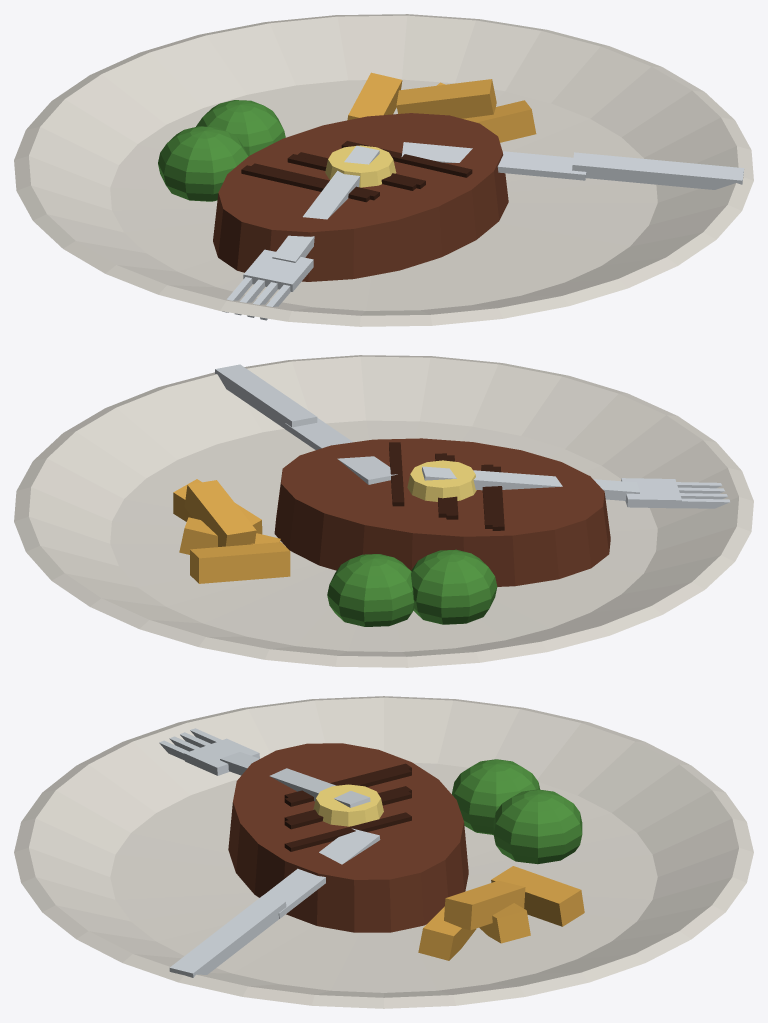
Rendered from steak.glb.
3 views of the same model, one above another, from view 1: azimuth 30°, elevation 25°; view 2: azimuth 150°, elevation 25°; view 3: azimuth 270°, elevation 25° (orthographic).
Visible parts, largest first — view 1: VesselMesh, SteakFullMeat, SteakForkKnife, SteakFullBroccoli, SteakFullPotato, SteakFullSear, SteakFullButter, SteakPartialSear, SteakPartialBroccoli, SteakPartialPotato; view 2: VesselMesh, SteakFullMeat, SteakForkKnife, SteakFullBroccoli, SteakFullPotato, SteakFullButter, SteakFullSear, SteakPartialBroccoli, SteakPartialPotato, SteakPartialSear; view 3: VesselMesh, SteakFullMeat, SteakForkKnife, SteakFullBroccoli, SteakFullPotato, SteakFullSear, SteakPartialPotato, SteakFullButter, SteakPartialBroccoli, SteakPartialSear.
Boxes of the visible parts, bbox=[...] form: VesselMesh: bbox=[14, 14, 753, 326]; SteakFullMeat: bbox=[213, 113, 508, 281]; SteakForkKnife: bbox=[222, 142, 744, 320]; SteakFullBroccoli: bbox=[159, 100, 285, 201]; SteakFullPotato: bbox=[347, 72, 529, 134]; SteakFullSear: bbox=[249, 141, 472, 200]; SteakFullButter: bbox=[325, 145, 396, 187]; SteakPartialSear: bbox=[241, 154, 416, 202]; SteakPartialBroccoli: bbox=[158, 126, 248, 197]; SteakPartialPotato: bbox=[437, 82, 536, 142]; VesselMesh: bbox=[14, 355, 753, 667]; SteakFullMeat: bbox=[274, 438, 610, 586]; SteakForkKnife: bbox=[215, 364, 729, 508]; SteakFullBroccoli: bbox=[327, 549, 495, 626]; SteakFullPotato: bbox=[173, 480, 290, 583]; SteakFullButter: bbox=[407, 460, 476, 501]; SteakFullSear: bbox=[389, 442, 496, 528]; SteakPartialBroccoli: bbox=[411, 550, 497, 621]; SteakPartialPotato: bbox=[173, 479, 280, 554]; SteakPartialSear: bbox=[446, 455, 504, 530]; VesselMesh: bbox=[14, 696, 753, 1008]; SteakFullMeat: bbox=[228, 743, 468, 932]; SteakForkKnife: bbox=[159, 728, 380, 977]; SteakFullBroccoli: bbox=[452, 759, 582, 864]; SteakFullPotato: bbox=[421, 866, 584, 960]; SteakFullSear: bbox=[284, 767, 411, 851]; SteakPartialPotato: bbox=[418, 903, 530, 960]; SteakFullButter: bbox=[313, 784, 383, 826]; SteakPartialBroccoli: bbox=[458, 760, 539, 834]; SteakPartialSear: bbox=[284, 763, 411, 820].
Size of the model in its own units: 0.25 by 0.0345 by 0.25.
